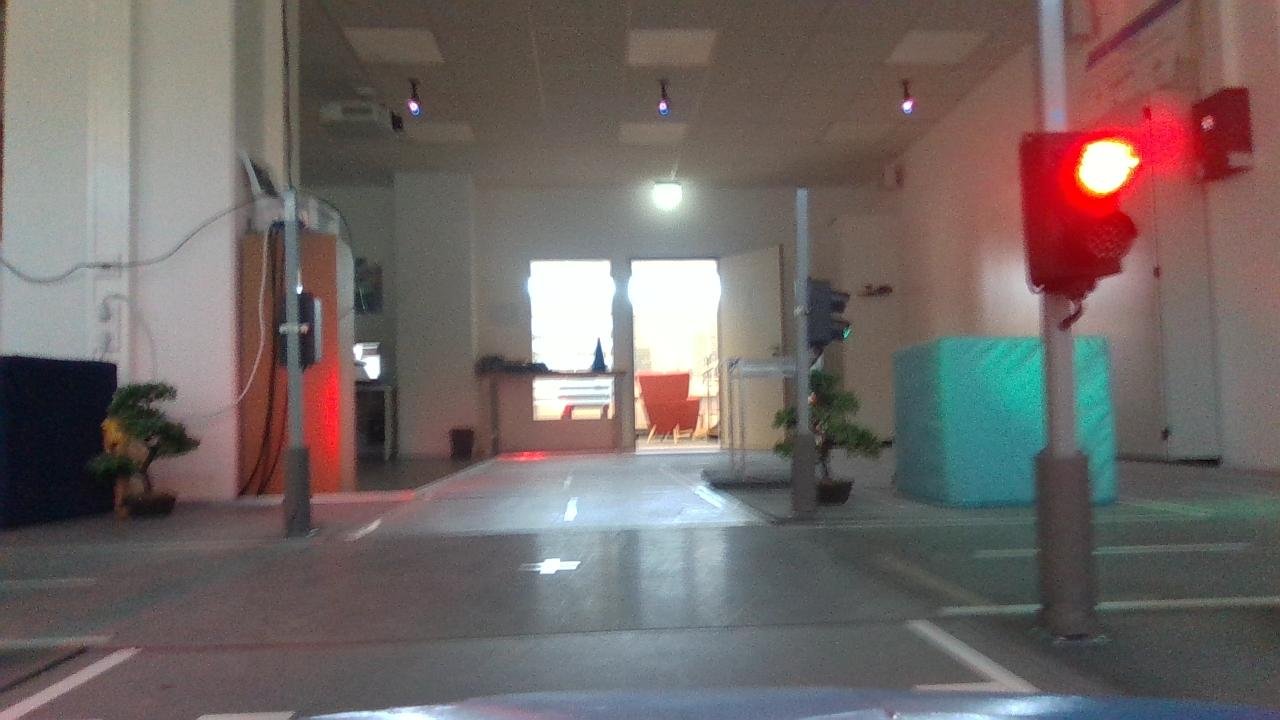traffic_light_red: (999, 118, 1158, 307)
